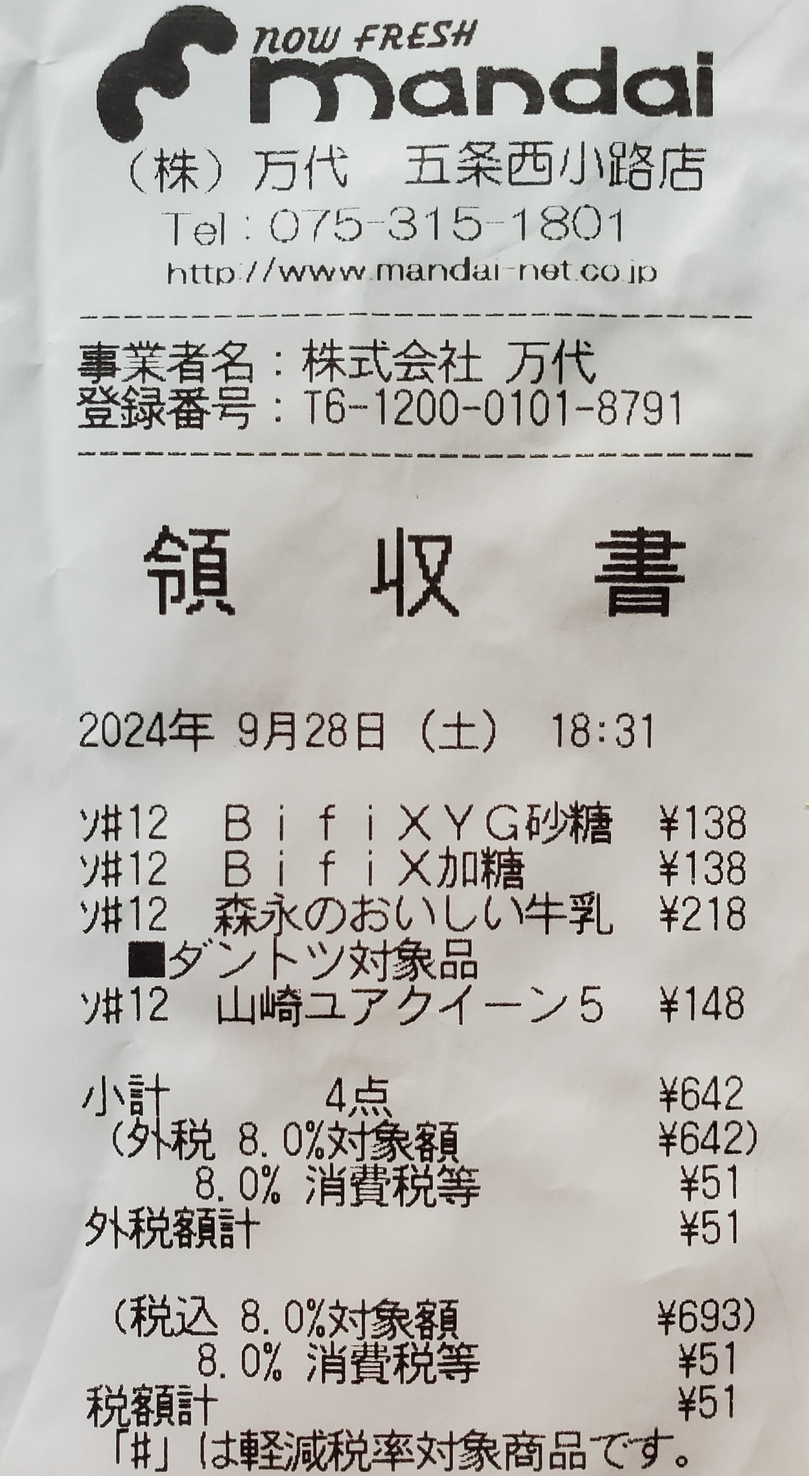Shopname: (245, 14, 749, 132)
Telnum: (259, 198, 639, 251)
Totalpay: (68, 701, 410, 761)
